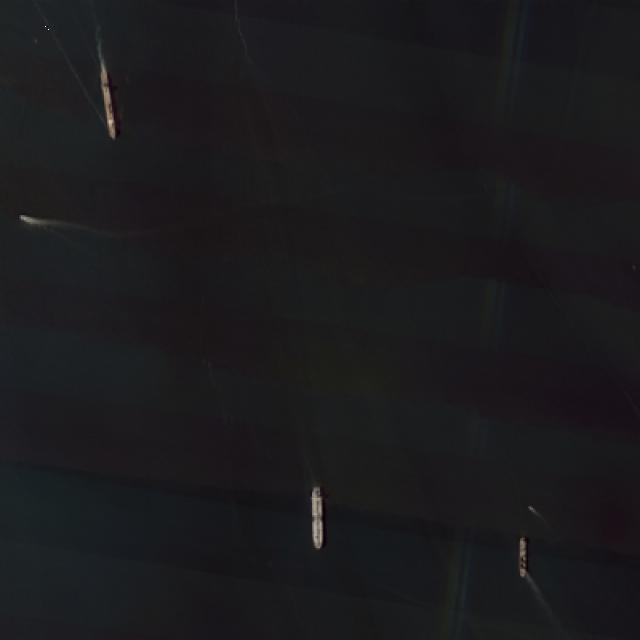boat: (43, 26, 50, 33)
